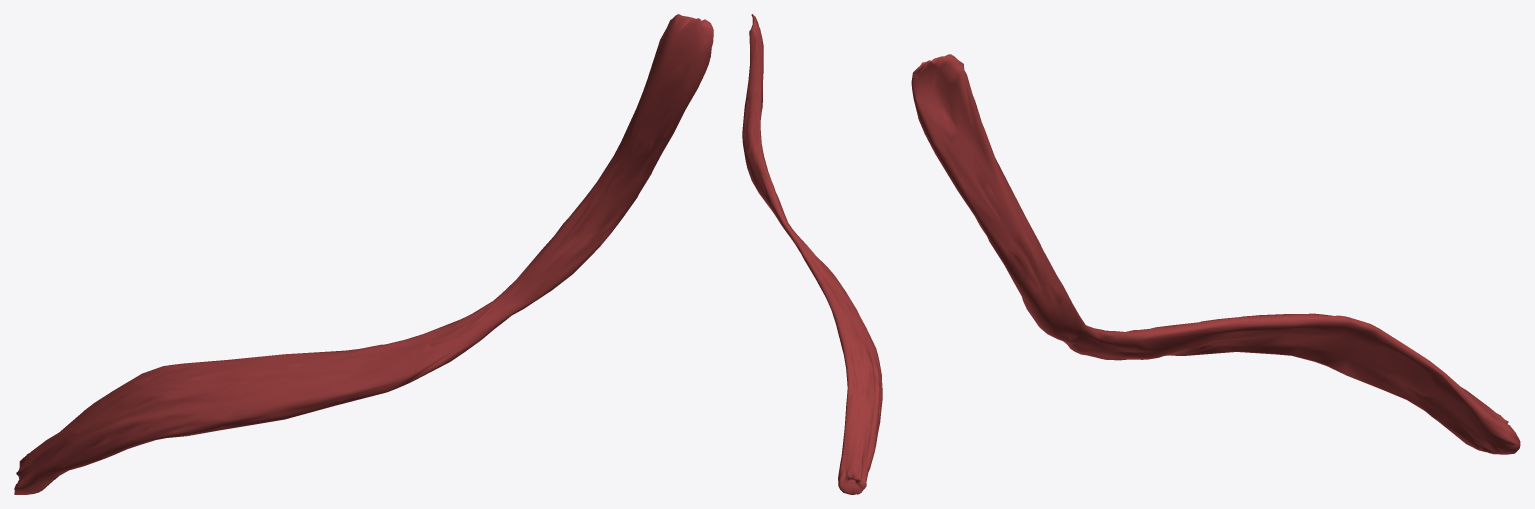
File: omohyoid-muscle-r.glb
3 views of the same model, side by side, from view 1: azimuth 30°, elevation 25°; view 2: azimuth 150°, elevation 25°; view 3: azimuth 270°, elevation 25° (orthographic). The views are drawn at different scales.
Parts seen in each view (by area): view 1: Omohyoid muscle.r; view 2: Omohyoid muscle.r; view 3: Omohyoid muscle.r.
Boxes of the visible parts, <box> form: Omohyoid muscle.r: <box>14,14,713,494</box>; Omohyoid muscle.r: <box>742,14,882,494</box>; Omohyoid muscle.r: <box>911,54,1520,454</box>.
Size of the model in its own units: 0.0908 by 0.1066 by 0.0935.
